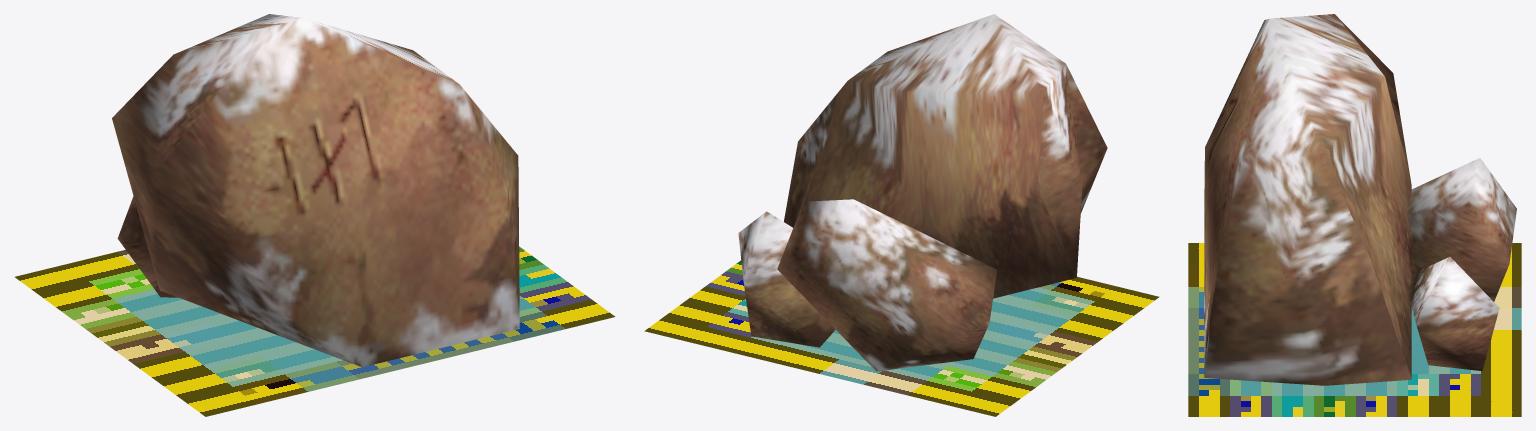
Rendered from rock_snow_base.glb.
The picture shows the model from 3 angles, left to right: view 1: azimuth 30°, elevation 25°; view 2: azimuth 150°, elevation 25°; view 3: azimuth 270°, elevation 25°; orthographic projection. The views are drawn at different scales.
Visible parts, largest first — view 1: MeshRoot; view 2: MeshRoot; view 3: MeshRoot.
Part boxes in pixels (bbox=[...]): MeshRoot: bbox=[15, 14, 615, 416]; MeshRoot: bbox=[644, 14, 1159, 416]; MeshRoot: bbox=[1188, 14, 1521, 416].
Bounding box in the file's own units: 4.28 × 3.28 × 3.46.
Materials: 2 (2 with a texture image).
